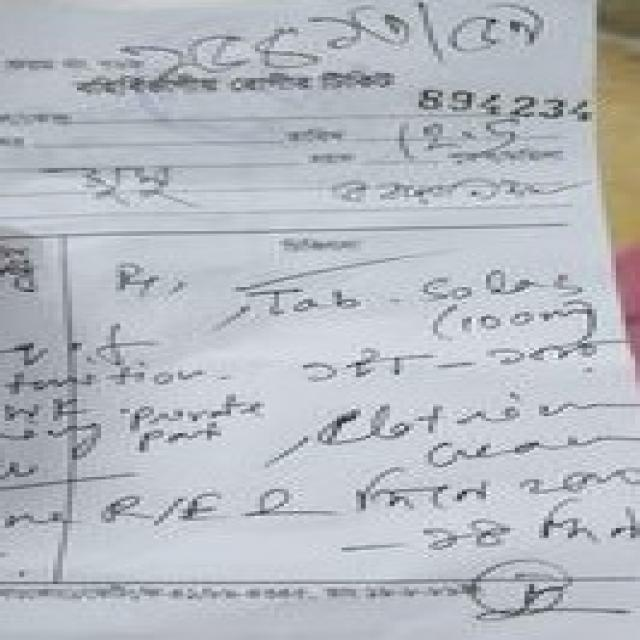Clotrim: (295, 390, 622, 458)
Solas: (395, 261, 602, 316)
